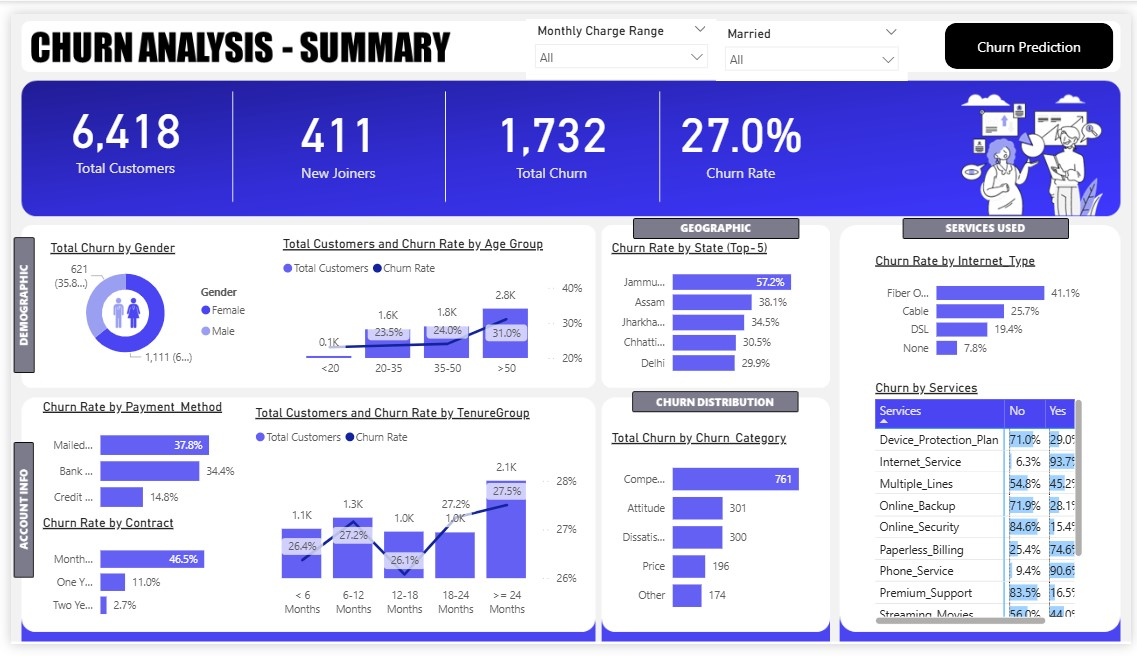

The dashboard page shown, as its layout file describes it:
{"tool":"powerbi","page":{"name":"Summary","canvas":[1280,720],"ordinal":0},"visuals":[{"type":"card","fields":{"Values":["tbl_measures.Total Customers"]},"box":[11.9,76.2,239.3,123.8],"z":0},{"type":"card","fields":{"Values":["tbl_measures.New Joiners"]},"box":[251.2,85.7,245.2,114.3],"z":1000},{"type":"card","fields":{"Values":["tbl_measures.Total Churn"]},"box":[496.4,85.7,241.7,114.3],"z":2000},{"type":"card","fields":{"Values":["tbl_measures.Churn Rate"]},"box":[738.1,85.7,191.7,114.3],"z":3000},{"type":"lineStackedColumnComboChart","fields":{"Category":["mapping_AgeGrp.Age Group"],"Y":["tbl_measures.Total Customers"],"Y2":["tbl_measures.Churn Rate"]},"box":[306,253.6,352.4,169],"z":4000},{"type":"clusteredBarChart","fields":{"Category":["prod_Churn.Payment_Method"],"Y":["tbl_measures.Churn Rate"]},"box":[31,439.3,233.3,141.7],"z":5000},{"type":"clusteredBarChart","fields":{"Category":["prod_Churn.Contract"],"Y":["tbl_measures.Churn Rate"]},"box":[31,572.6,233.3,129.8],"z":6000},{"type":"lineStackedColumnComboChart","fields":{"Category":["mapping_TenureGrp.TenureGroup"],"Y":["tbl_measures.Total Customers"],"Y2":["tbl_measures.Churn Rate"]},"box":[273.8,447.6,377.4,248.8],"z":7000},{"type":"clusteredBarChart","title":"Churn Rate by State (Top-5)","fields":{"Category":["prod_Churn.State"],"Y":["tbl_measures.Churn Rate"]},"box":[681,258.3,248.8,164.3],"z":8000},{"type":"clusteredBarChart","fields":{"Category":["prod_Churn.Churn_Category"],"Y":["tbl_measures.Total Churn"]},"box":[681,475,248.8,221.4],"z":9000},{"type":"clusteredBarChart","fields":{"Category":["prod_Churn.Internet_Type"],"Y":["tbl_measures.Churn Rate"]},"box":[983.3,272.6,246.4,131],"z":10000},{"type":"pivotTable","title":"Churn by Services","fields":{"Rows":["prod_Services.Services"],"Columns":["prod_Services.Status"],"Values":["Sum(prod_Services.Churn Status)"]},"box":[983.3,417.9,246.4,284.5],"z":11000},{"type":"slicer","fields":{"Values":["prod_Services.Monthly Charge Status"]},"box":[588.1,6,217.9,69],"z":12000},{"type":"slicer","fields":{"Values":["prod_Services.Married"]},"box":[806,8.3,219,67.9],"z":13000},{"type":"image","box":[92.9,314.3,78.6,53.6],"z":14000},{"type":"donutChart","fields":{"Category":["prod_Churn.Gender"],"Y":["tbl_measures.Total Churn"]},"box":[40.5,258.3,242.9,150],"z":15000},{"type":"shape","box":[1067.1,10,192.9,52.9],"z":16000}]}

Visuals, with their boxes in screenshot pixels (x1, y1, x2, y2), scaled from the page's 1280x720 canvas onto the 1137x656 screenshot:
card - tbl_measures.Total Customers: left=11, top=69, right=223, bottom=182
card - tbl_measures.New Joiners: left=223, top=78, right=441, bottom=182
card - tbl_measures.Total Churn: left=441, top=78, right=656, bottom=182
card - tbl_measures.Churn Rate: left=656, top=78, right=826, bottom=182
lineStackedColumnComboChart - mapping_AgeGrp.Age Group x tbl_measures.Total Customers: left=272, top=231, right=585, bottom=385
clusteredBarChart - prod_Churn.Payment_Method x tbl_measures.Churn Rate: left=28, top=400, right=235, bottom=529
clusteredBarChart - prod_Churn.Contract x tbl_measures.Churn Rate: left=28, top=522, right=235, bottom=640
lineStackedColumnComboChart - mapping_TenureGrp.TenureGroup x tbl_measures.Total Customers: left=243, top=408, right=578, bottom=634
"Churn Rate by State (Top-5)" clusteredBarChart: left=605, top=235, right=826, bottom=385
clusteredBarChart - prod_Churn.Churn_Category x tbl_measures.Total Churn: left=605, top=433, right=826, bottom=634
clusteredBarChart - prod_Churn.Internet_Type x tbl_measures.Churn Rate: left=873, top=248, right=1092, bottom=368
"Churn by Services" pivotTable: left=873, top=381, right=1092, bottom=640
slicer - prod_Services.Monthly Charge Status: left=522, top=5, right=716, bottom=68
slicer - prod_Services.Married: left=716, top=8, right=910, bottom=69
image: left=83, top=286, right=152, bottom=335
donutChart - prod_Churn.Gender x tbl_measures.Total Churn: left=36, top=235, right=252, bottom=372
shape: left=948, top=9, right=1119, bottom=57
